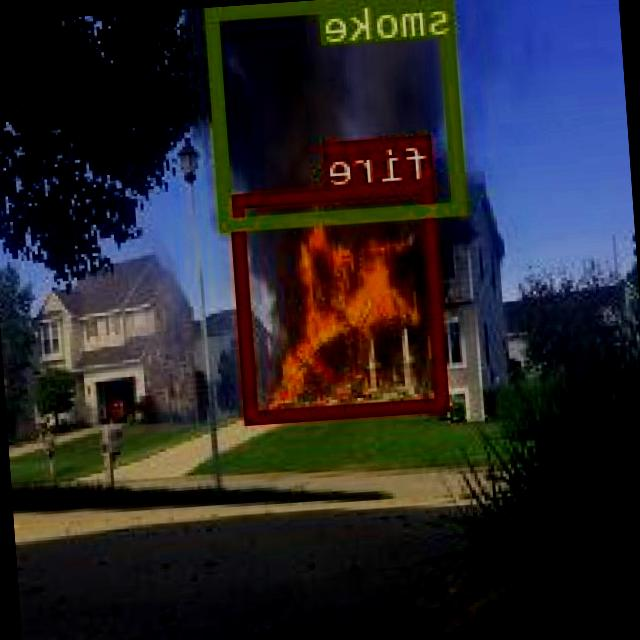fire: (231, 178, 452, 422)
smoke: (206, 0, 470, 229)
